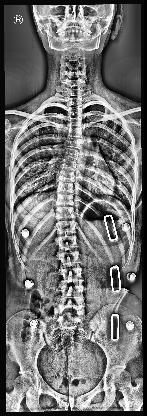Vertebrae: (58, 300, 86, 318), (58, 250, 82, 266), (60, 266, 84, 282), (60, 284, 84, 298), (55, 235, 78, 249), (55, 221, 76, 235), (56, 192, 76, 206), (58, 167, 76, 181), (57, 180, 75, 194), (55, 206, 76, 218), (61, 156, 78, 170), (67, 115, 83, 127), (68, 137, 83, 149), (65, 149, 81, 159), (68, 127, 83, 137)
